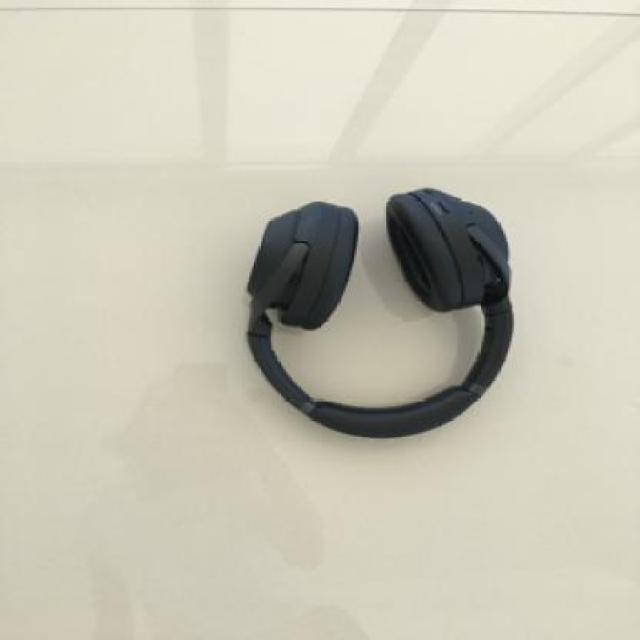earphone: (232, 154, 538, 478)
